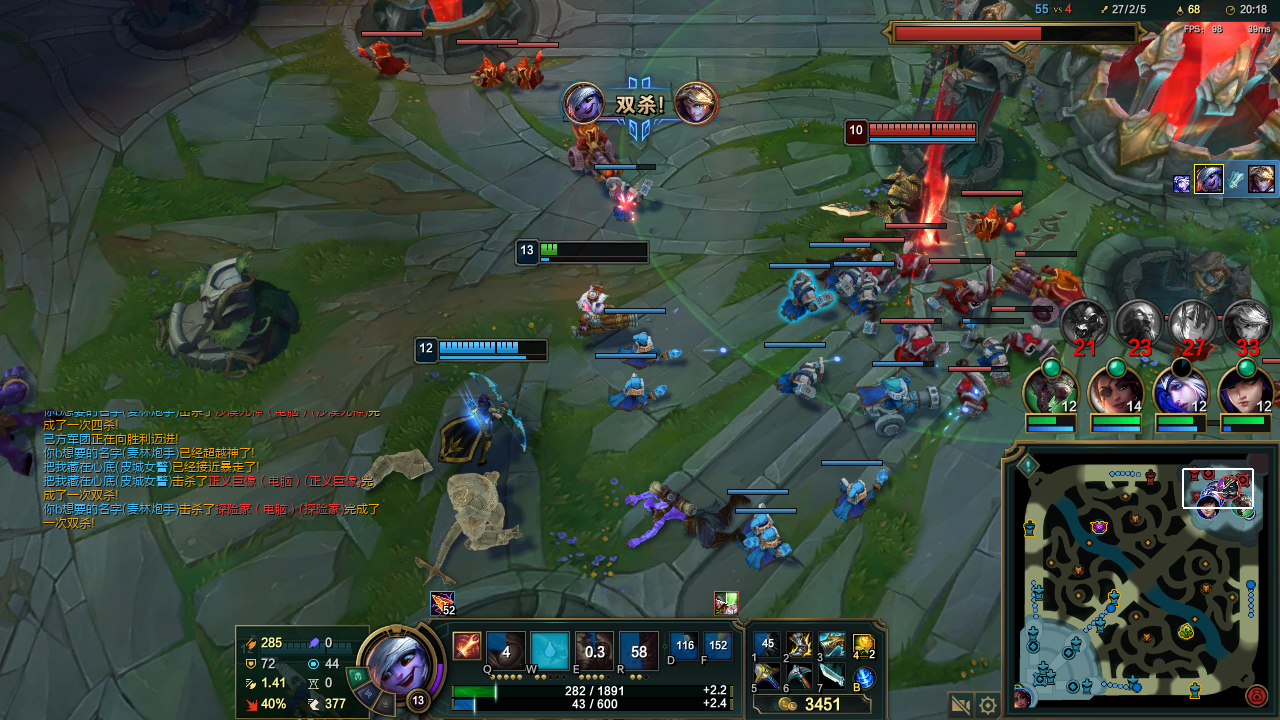DFDSJ: (1099, 48, 1240, 162)
DFFYT: (920, 21, 1032, 192)
DFXB: (557, 120, 627, 174), (354, 40, 430, 88), (1001, 254, 1068, 306), (958, 203, 1035, 245), (506, 46, 558, 93), (936, 274, 990, 314), (893, 323, 942, 364), (452, 54, 508, 89), (890, 242, 939, 281), (948, 374, 989, 420), (855, 250, 898, 280)
DFYX: (863, 126, 971, 139)
WFXB: (856, 368, 941, 436), (825, 468, 912, 534), (594, 372, 677, 414), (609, 327, 693, 367), (768, 262, 822, 324), (742, 522, 800, 578), (776, 355, 834, 399), (845, 274, 895, 325), (735, 503, 786, 550), (818, 250, 866, 294), (975, 336, 1019, 383)
